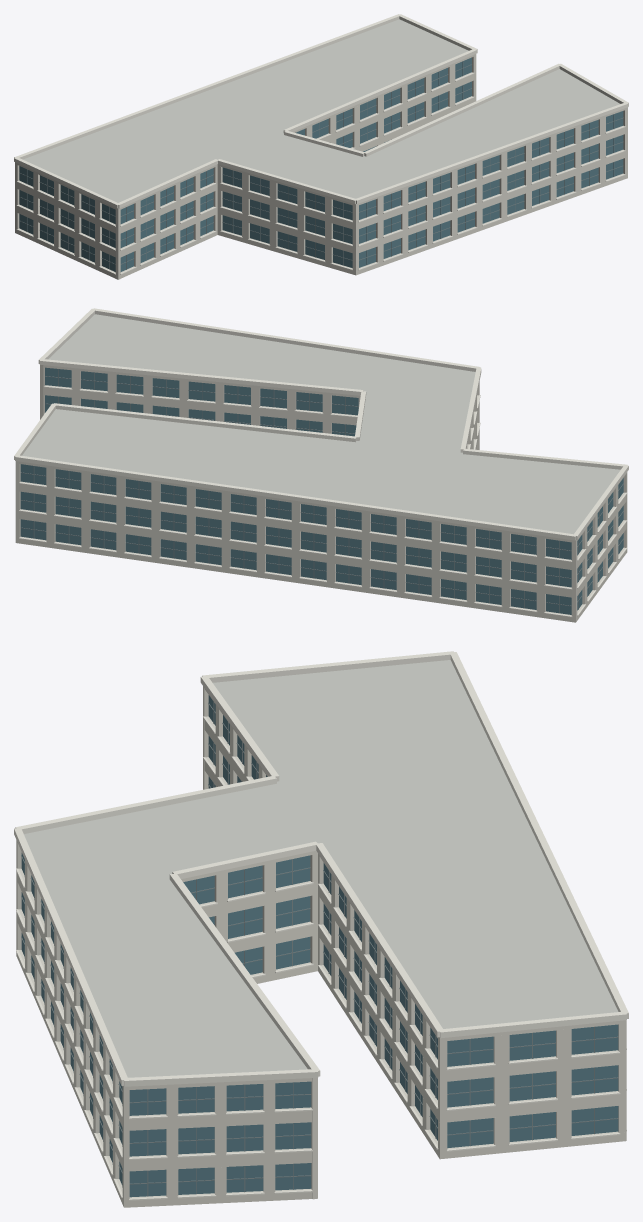
3 views of the same model, one above another, from view 1: azimuth 30°, elevation 25°; view 2: azimuth 150°, elevation 25°; view 3: azimuth 270°, elevation 25° (orthographic). The views are drawn at different scales.
Visible parts, largest first — view 1: roof, wall, glass, trim, metal; view 2: roof, wall, glass, trim, metal; view 3: roof, wall, glass, trim, metal.
Boxes of the visible parts, x1=… form: roof: x1=23, y1=19, x2=620, y2=202; wall: x1=15, y1=54, x2=627, y2=279; glass: x1=19, y1=57, x2=623, y2=271; trim: x1=14, y1=14, x2=628, y2=274; metal: x1=19, y1=61, x2=623, y2=269; roof: x1=22, y1=314, x2=620, y2=534; wall: x1=15, y1=365, x2=627, y2=622; glass: x1=20, y1=367, x2=623, y2=614; trim: x1=14, y1=308, x2=628, y2=617; metal: x1=20, y1=369, x2=623, y2=613; roof: x1=24, y1=660, x2=618, y2=1077; wall: x1=16, y1=686, x2=626, y2=1207; glass: x1=21, y1=695, x2=618, y2=1197; trim: x1=14, y1=651, x2=628, y2=1200; metal: x1=21, y1=701, x2=618, y2=1196.
Bounding box in the file's own units: 70.26 × 9.74 × 42.48.
